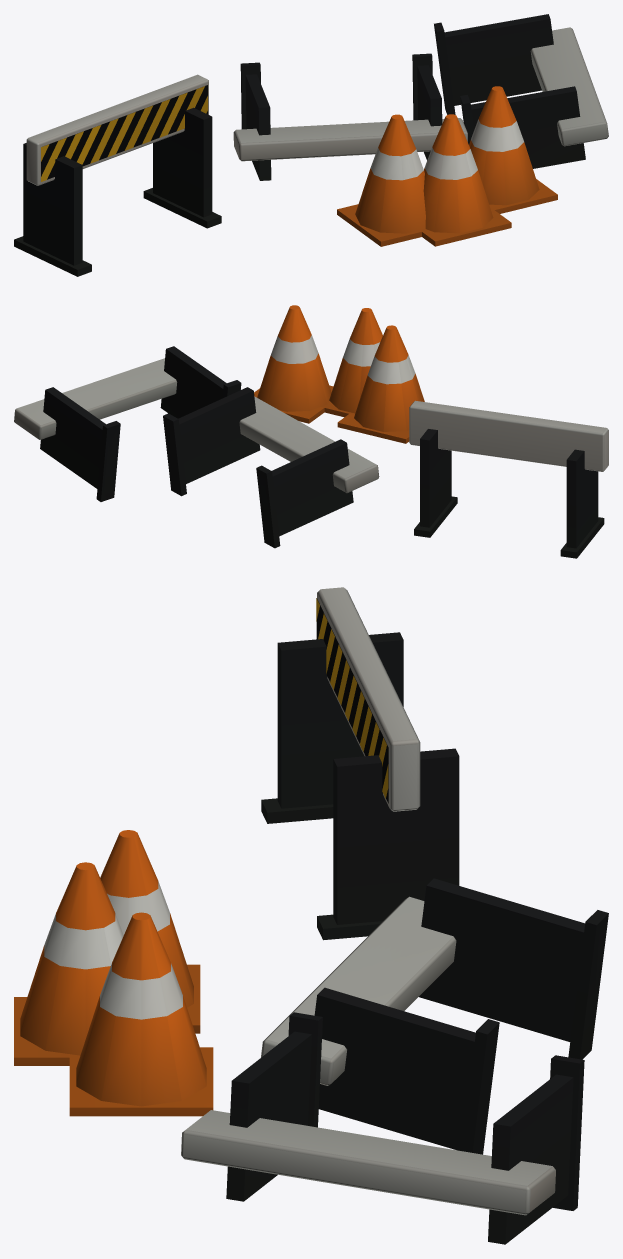
File: tipped_barriers.glb
The picture shows the model from 3 angles, top to bottom: view 1: azimuth 30°, elevation 25°; view 2: azimuth 150°, elevation 25°; view 3: azimuth 270°, elevation 25°; orthographic projection. The views are drawn at different scales.
Parts seen in each view (by area): view 1: Mesh; view 2: Mesh; view 3: Mesh.
Boxes of the visible parts, bbox=[...] form: Mesh: bbox=[14, 14, 608, 276]; Mesh: bbox=[14, 305, 608, 558]; Mesh: bbox=[14, 587, 608, 1244].
Size of the model in its own units: 3.63 by 0.8255 by 1.91.
